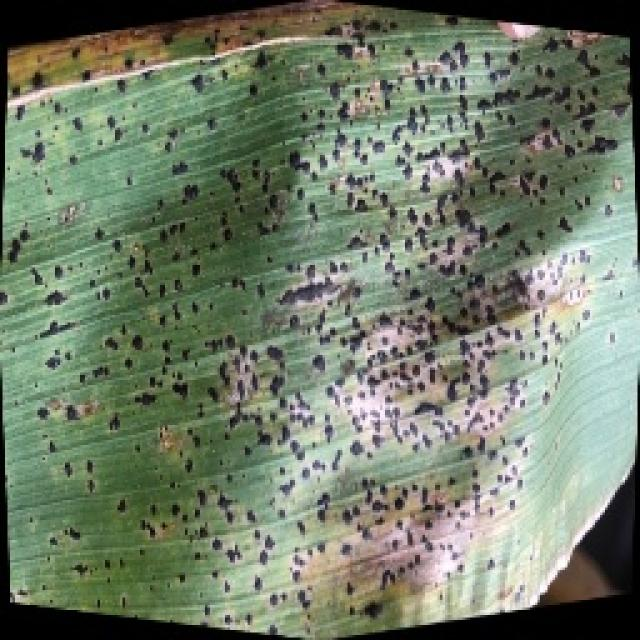Tar_Spot: (61, 71, 597, 590)
